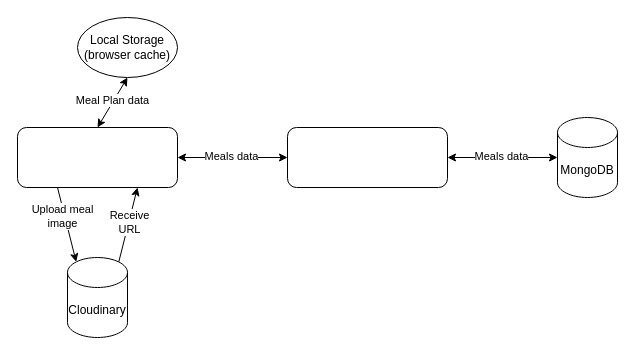
Image size: 635x355. Some labels were removed from this diagram. The shapes that lost their labels are listed below. From the top down, each one's centre as x and y in pixels, then its label:
At [97,157]: "Frontend (React)".
At [367,157]: "Backend (Node.js)".
